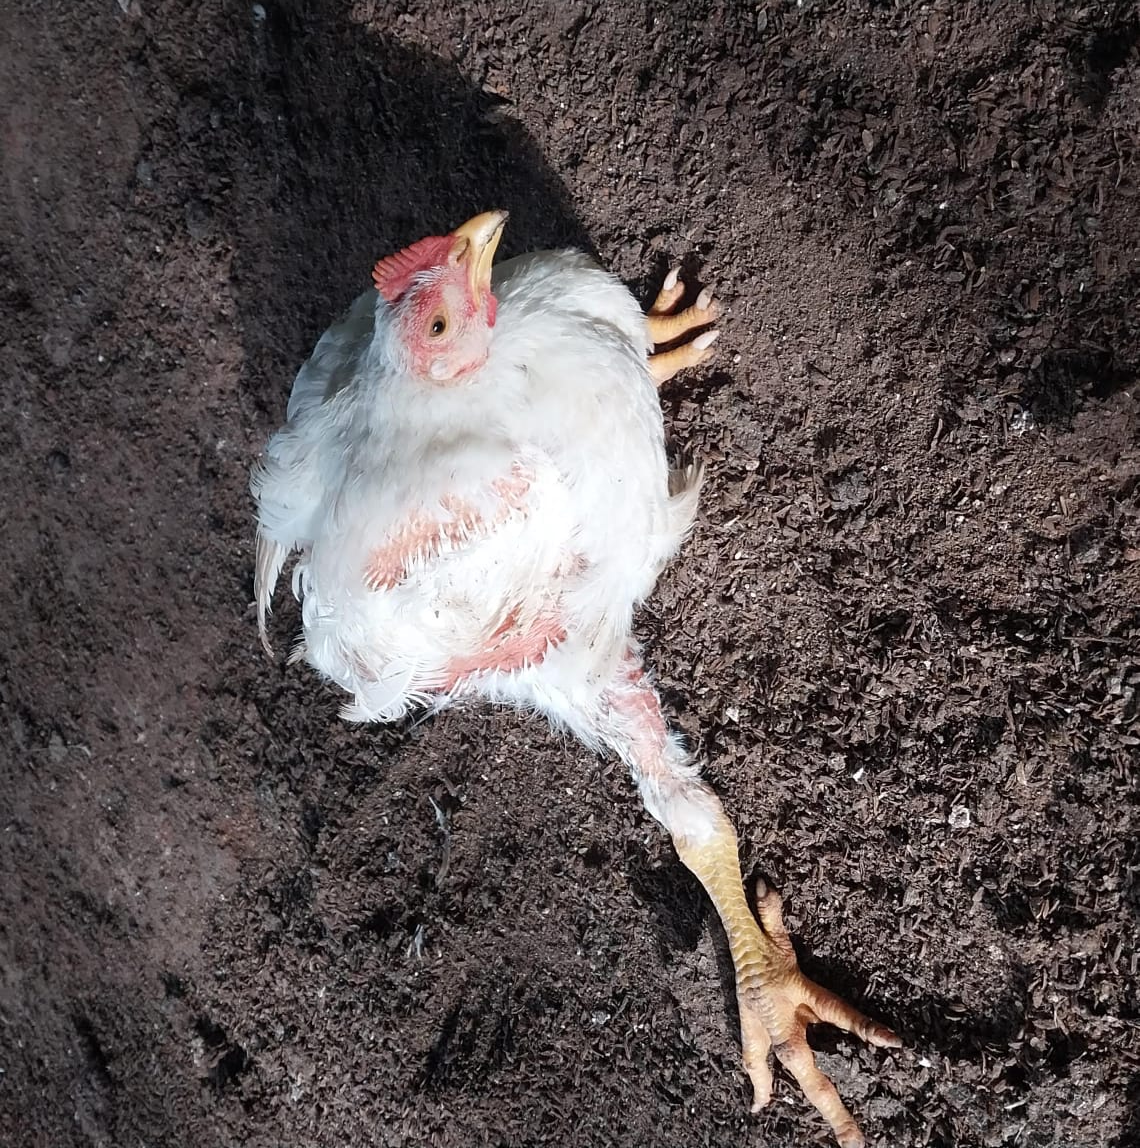Unhealthy: (232, 186, 999, 1125)
